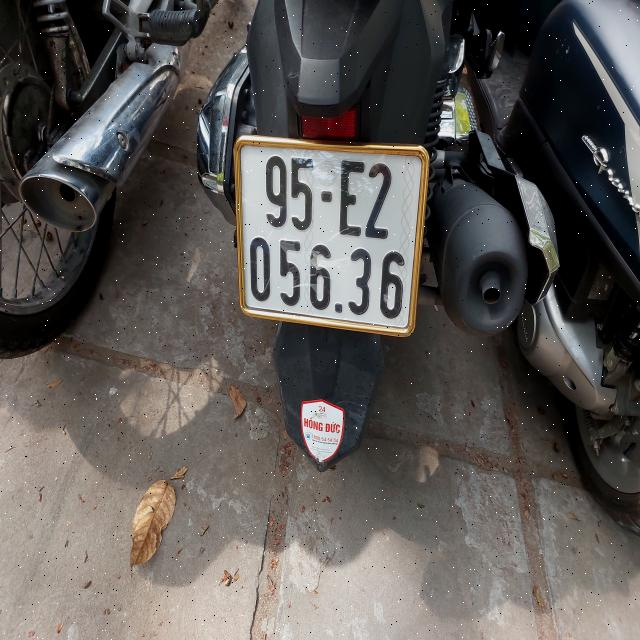0: (248, 234, 272, 303)
2: (367, 159, 392, 240)
3: (348, 247, 372, 316)
5: (290, 154, 314, 232), (278, 238, 304, 306)
6: (380, 247, 406, 322), (307, 241, 332, 310)
9: (263, 155, 290, 226)
E: (338, 158, 365, 237)
